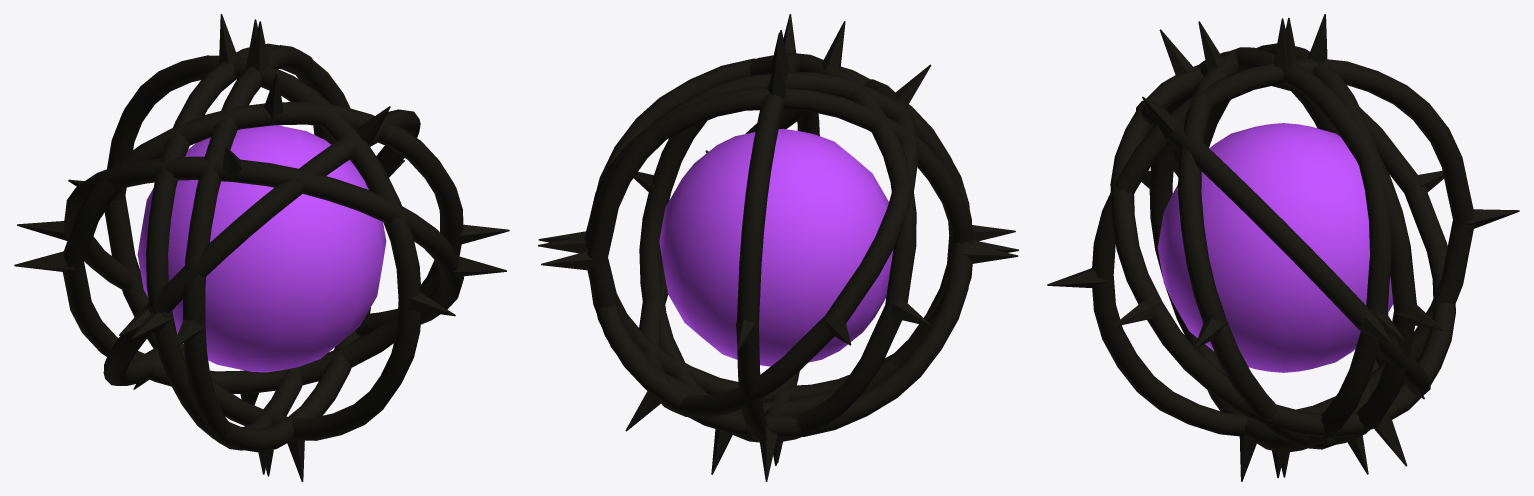
File: herz.obj
3 views of the same model, side by side, from view 1: azimuth 30°, elevation 25°; view 2: azimuth 150°, elevation 25°; view 3: azimuth 270°, elevation 25° (orthographic). The views are drawn at different scales.
Visible parts, largest first — view 1: herz; view 2: herz; view 3: herz.
Part boxes in pixels (x1,y1,x2,y2): herz: (14, 14, 509, 481); herz: (538, 14, 1018, 481); herz: (1047, 14, 1519, 481).
Bounding box in the file's own units: 1.13 × 1.2 × 1.13.
